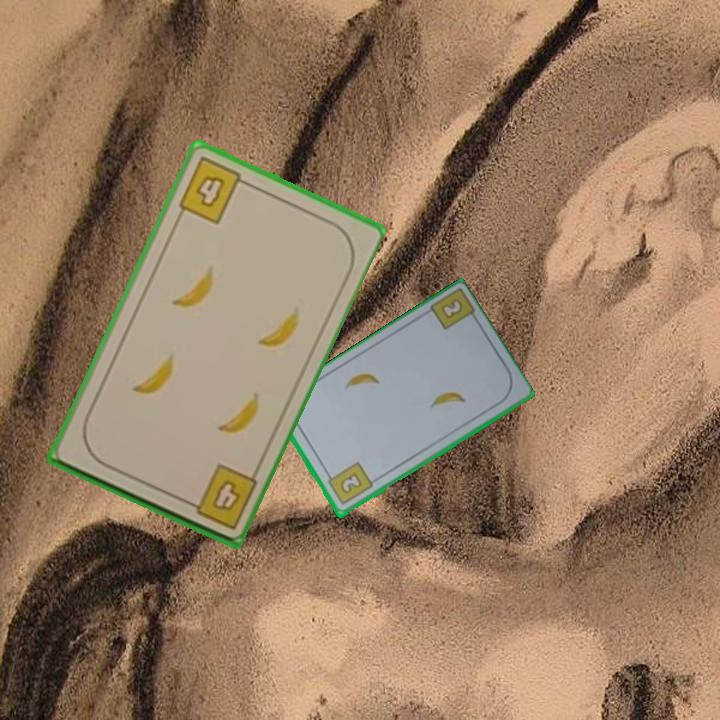2b: (323, 459, 375, 508), (437, 297, 464, 322)
4b: (180, 460, 260, 533), (174, 153, 252, 227)
